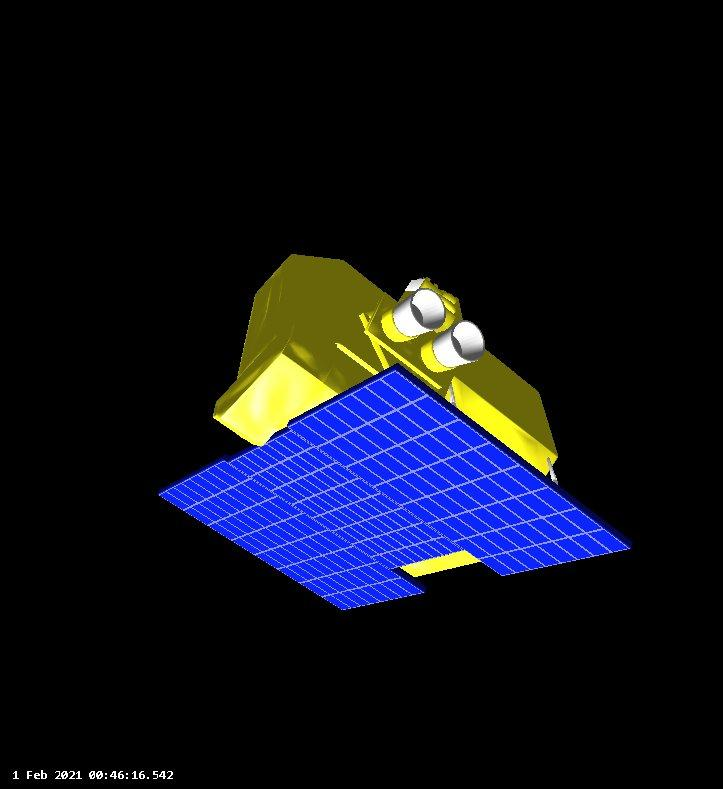body: (210, 250, 560, 503)
solar: (158, 362, 633, 610)
thruster: (393, 287, 447, 339), (435, 318, 485, 368)
